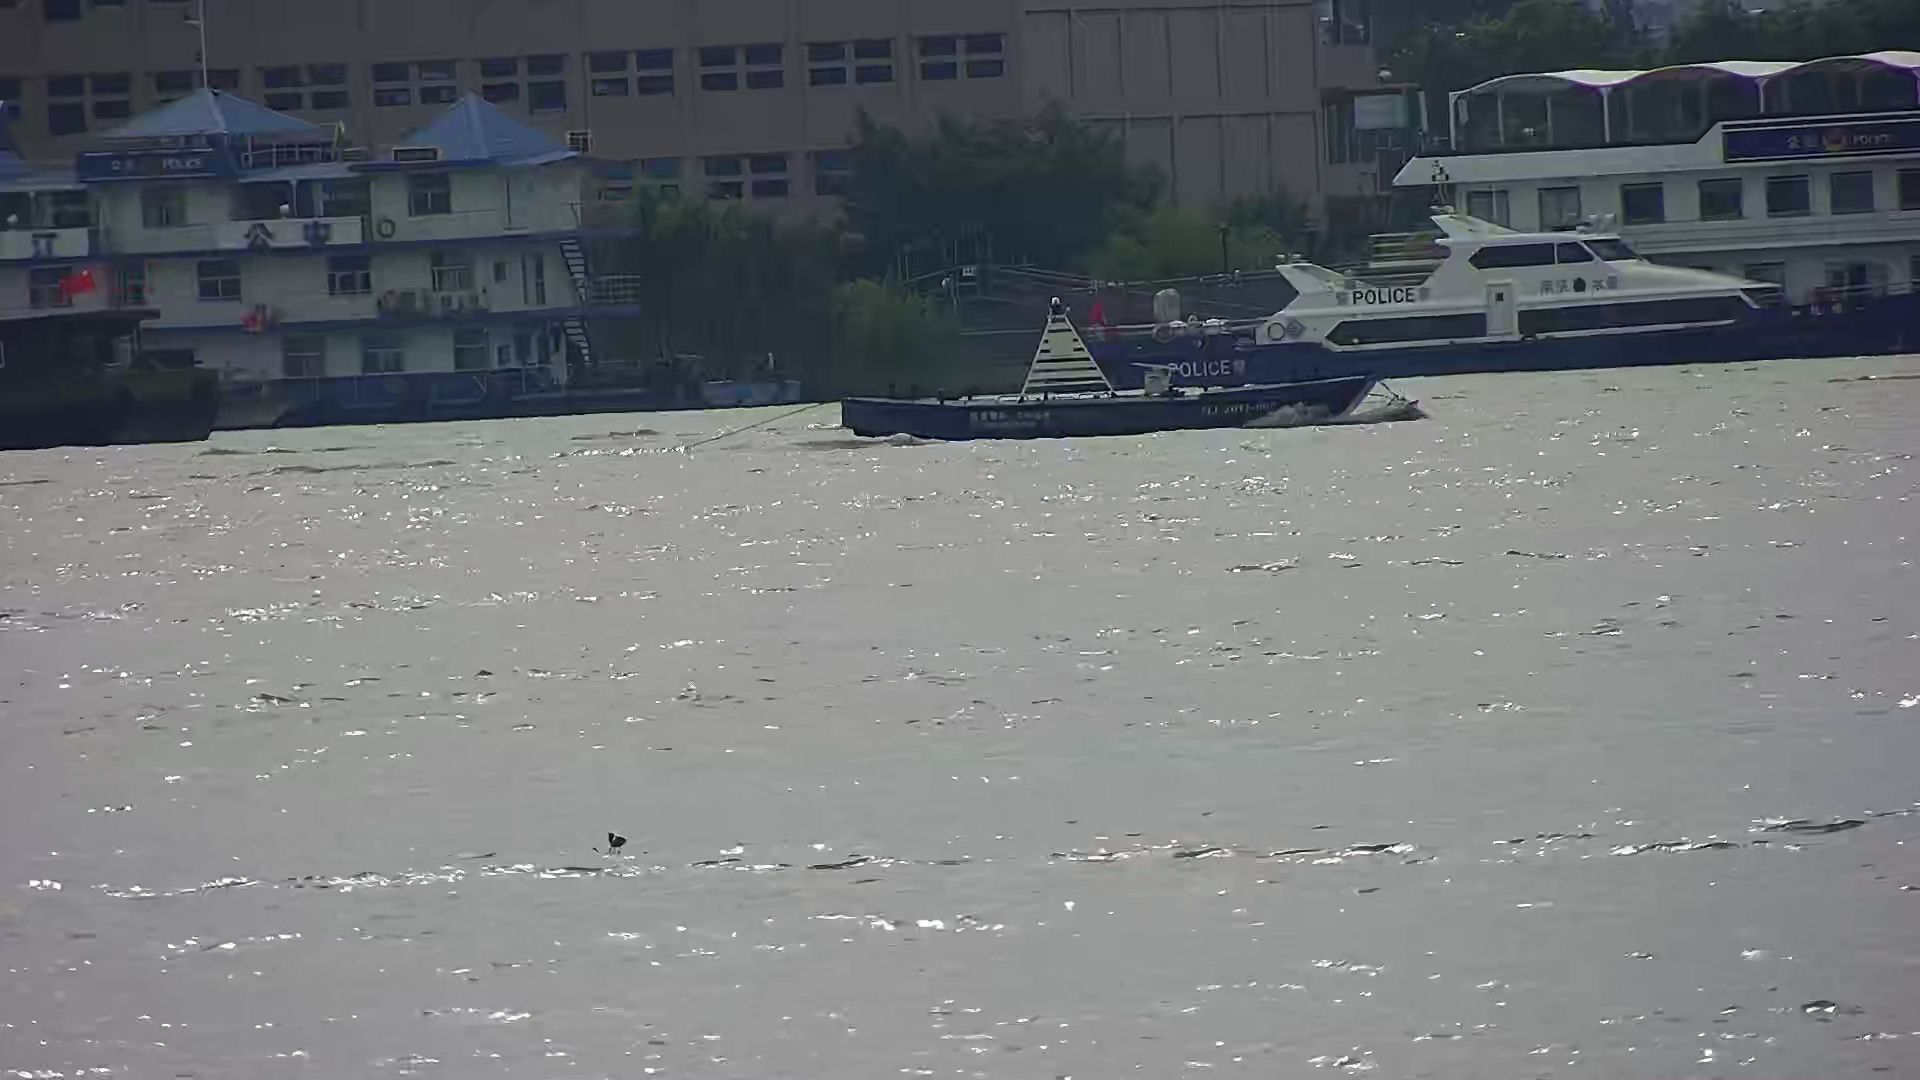boat: (837, 294, 1378, 439)
ship: (1089, 204, 1920, 376), (1, 266, 220, 448)
